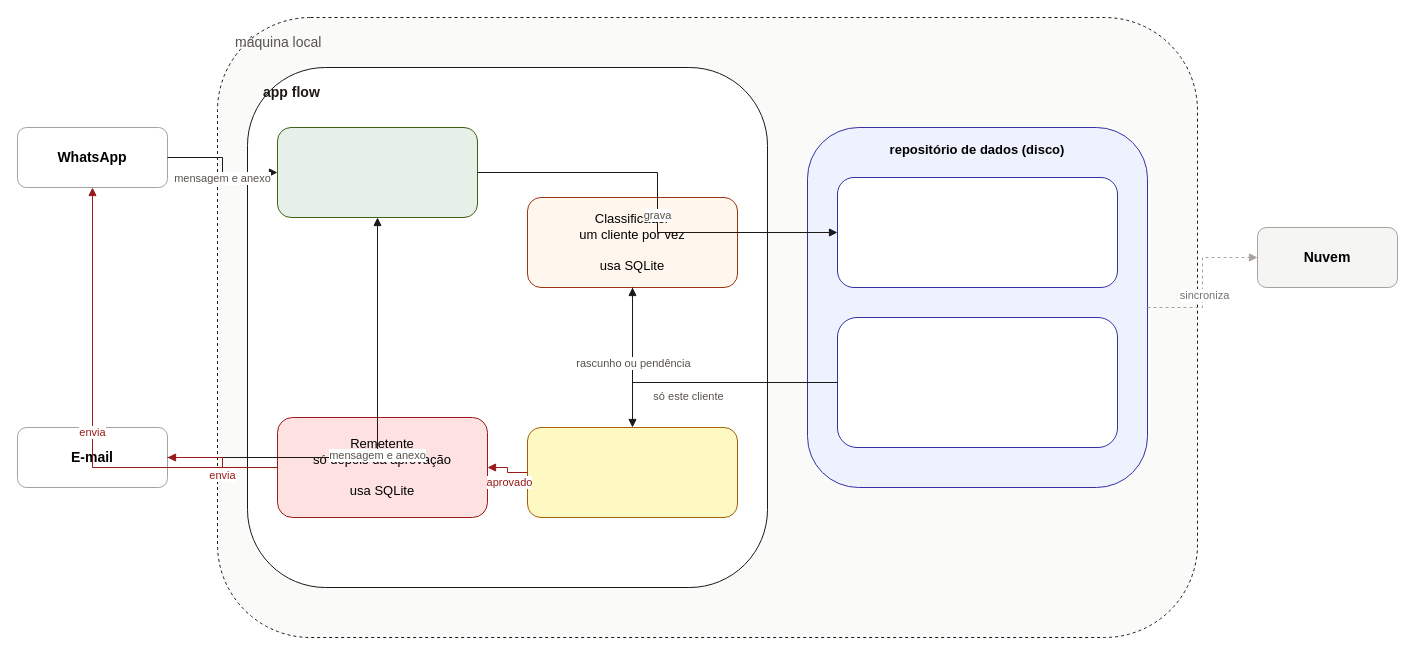
This 1415x655 diagram has some shape labels left out. Each missing label, with the centre of its shape:
documentos arquivos do cliente: point (977, 232)
Fila aprova, não envia usa SQLite: point (632, 472)
Leitores só entram usa SQLite: point (377, 172)
SQLite índice e estado do fluxo: point (977, 382)
